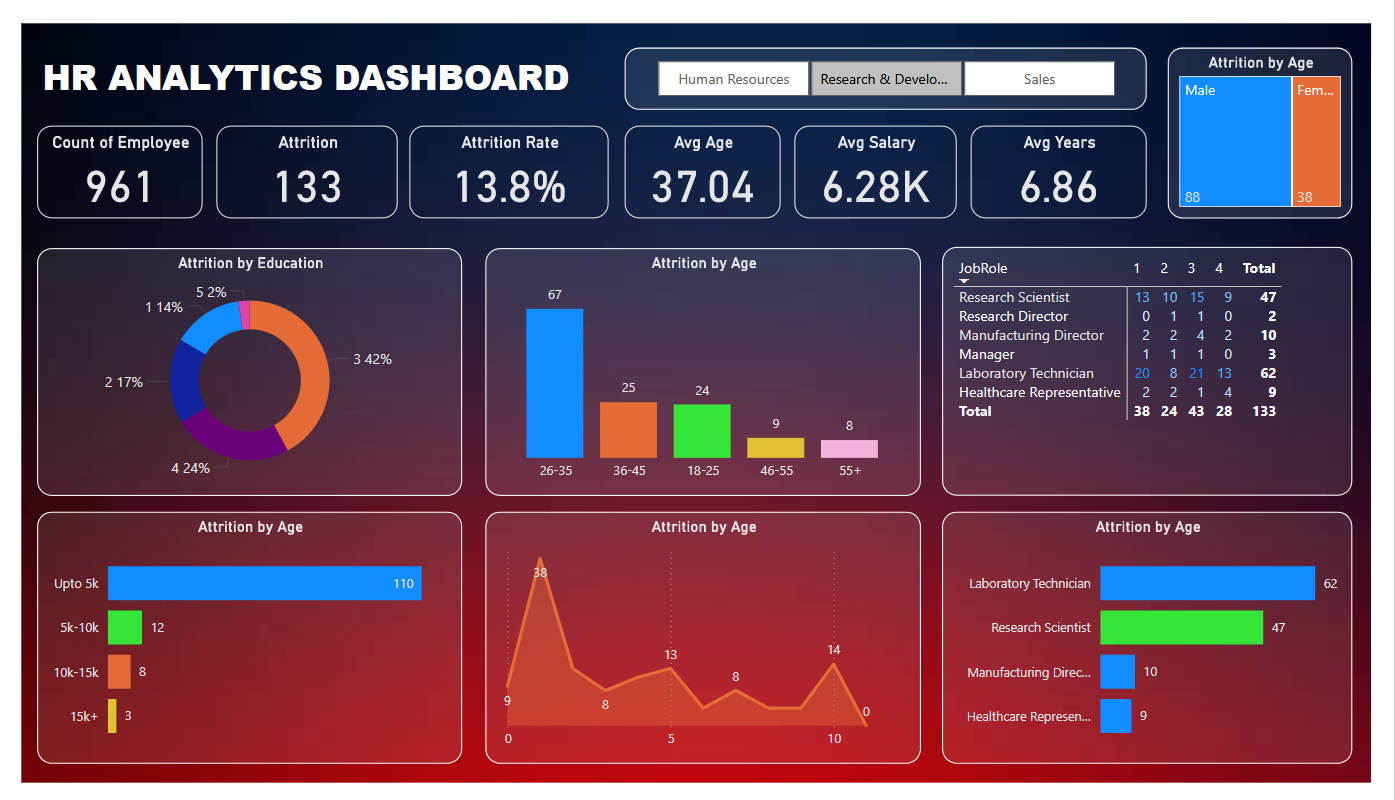

The page's visual inventory and layout, read from the dashboard file:
{"tool":"powerbi","page":{"name":"Page 1","canvas":[1280,720],"ordinal":0},"visuals":[{"type":"card","title":"Count of Employee","fields":{"Values":["CountNonNull(HR_Analytics.EmpID)"]},"box":[15,96.7,156.7,88.3],"z":0},{"type":"card","title":"Attrition","fields":{"Values":["Sum(HR_Analytics.AttritionCount)"]},"box":[185,96.7,171.7,88.3],"z":1000},{"type":"card","title":"Attrition Rate","fields":{"Values":["HR_Analytics.AttritionRate"]},"box":[368.3,96.7,188.3,88.3],"z":2000},{"type":"card","title":"Avg Age","fields":{"Values":["Avg(HR_Analytics.Age)"]},"box":[571.7,96.7,148.3,88.3],"z":3000},{"type":"card","title":"Avg Salary","fields":{"Values":["Avg(HR_Analytics.MonthlyIncome)"]},"box":[733.3,96.7,153.3,88.3],"z":4000},{"type":"card","title":"Avg Years","fields":{"Values":["Avg(HR_Analytics.YearsAtCompany)"]},"box":[900,96.7,166.7,88.3],"z":5000},{"type":"donutChart","title":"Attrition by Education","fields":{"Category":["HR_Analytics.Education"],"Y":["Sum(HR_Analytics.AttritionCount)"]},"box":[15,213.3,403.3,235],"z":6000},{"type":"columnChart","title":"Attrition by Age","fields":{"Category":["HR_Analytics.AgeGroup"],"Y":["Sum(HR_Analytics.AttritionCount)"]},"box":[440,213.3,413.3,235],"z":7000},{"type":"pivotTable","fields":{"Rows":["HR_Analytics.JobRole"],"Columns":["HR_Analytics.JobSatisfaction"],"Values":["Sum(HR_Analytics.AttritionCount)"]},"box":[873.3,211.7,388.3,236.7],"z":8000},{"type":"barChart","title":"Attrition by Age","fields":{"Category":["HR_Analytics.SalarySlab"],"Y":["Sum(HR_Analytics.AttritionCount)"]},"box":[15,463.3,403.3,238.3],"z":9000},{"type":"barChart","title":"Attrition by Age","fields":{"Category":["HR_Analytics.JobRole"],"Y":["Sum(HR_Analytics.AttritionCount)"]},"box":[873.3,463.3,388.3,238.3],"z":10000},{"type":"areaChart","title":"Attrition by Age","fields":{"Category":["HR_Analytics.YearsAtCompany"],"Y":["Sum(HR_Analytics.AttritionCount)"]},"box":[440,463.3,413.3,238.3],"z":11000},{"type":"treemap","title":"Attrition by Age","fields":{"Group":["HR_Analytics.Gender"],"Values":["Sum(HR_Analytics.AttritionCount)"]},"box":[1086.7,23.3,175,161.7],"z":12000},{"type":"slicer","fields":{"Values":["HR_Analytics.Department"]},"box":[541.7,23.3,535,56.7],"z":13000},{"type":"textbox","box":[15,23.3,568.3,56.7],"z":14000}]}

Visuals, with their boxes in screenshot pixels (x1, y1, x2, y2), scaled from the page's 1280x720 canvas onto the 1395x800 screenshot:
"Count of Employee" card: {"left": 16, "top": 107, "right": 187, "bottom": 206}
"Attrition" card: {"left": 202, "top": 107, "right": 389, "bottom": 206}
"Attrition Rate" card: {"left": 401, "top": 107, "right": 607, "bottom": 206}
"Avg Age" card: {"left": 623, "top": 107, "right": 785, "bottom": 206}
"Avg Salary" card: {"left": 799, "top": 107, "right": 966, "bottom": 206}
"Avg Years" card: {"left": 981, "top": 107, "right": 1163, "bottom": 206}
"Attrition by Education" donutChart: {"left": 16, "top": 237, "right": 456, "bottom": 498}
"Attrition by Age" columnChart: {"left": 480, "top": 237, "right": 930, "bottom": 498}
pivotTable - HR_Analytics.JobRole x HR_Analytics.JobSatisfaction: {"left": 952, "top": 235, "right": 1375, "bottom": 498}
"Attrition by Age" barChart: {"left": 16, "top": 515, "right": 456, "bottom": 780}
"Attrition by Age" barChart: {"left": 952, "top": 515, "right": 1375, "bottom": 780}
"Attrition by Age" areaChart: {"left": 480, "top": 515, "right": 930, "bottom": 780}
"Attrition by Age" treemap: {"left": 1184, "top": 26, "right": 1375, "bottom": 206}
slicer - HR_Analytics.Department: {"left": 590, "top": 26, "right": 1173, "bottom": 89}
textbox: {"left": 16, "top": 26, "right": 636, "bottom": 89}
